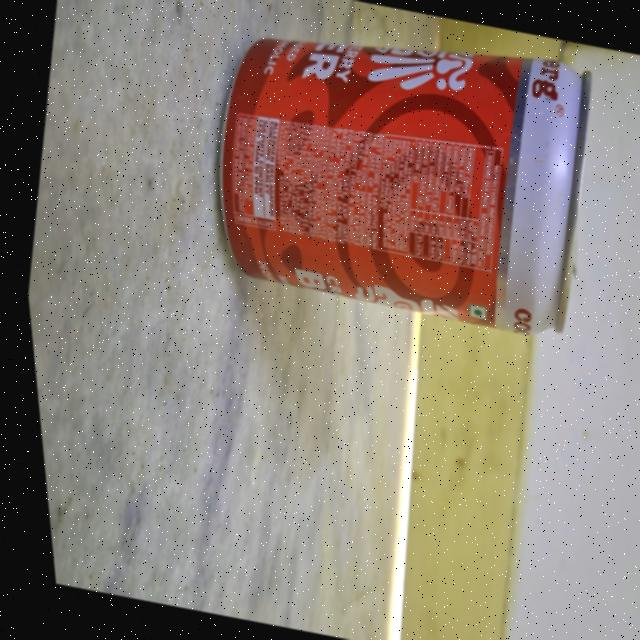Coolberg: (167, 0, 627, 384)
